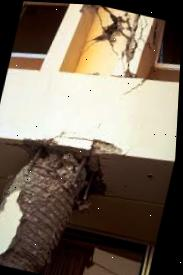spalling: (0, 144, 88, 273), (92, 5, 138, 61)
